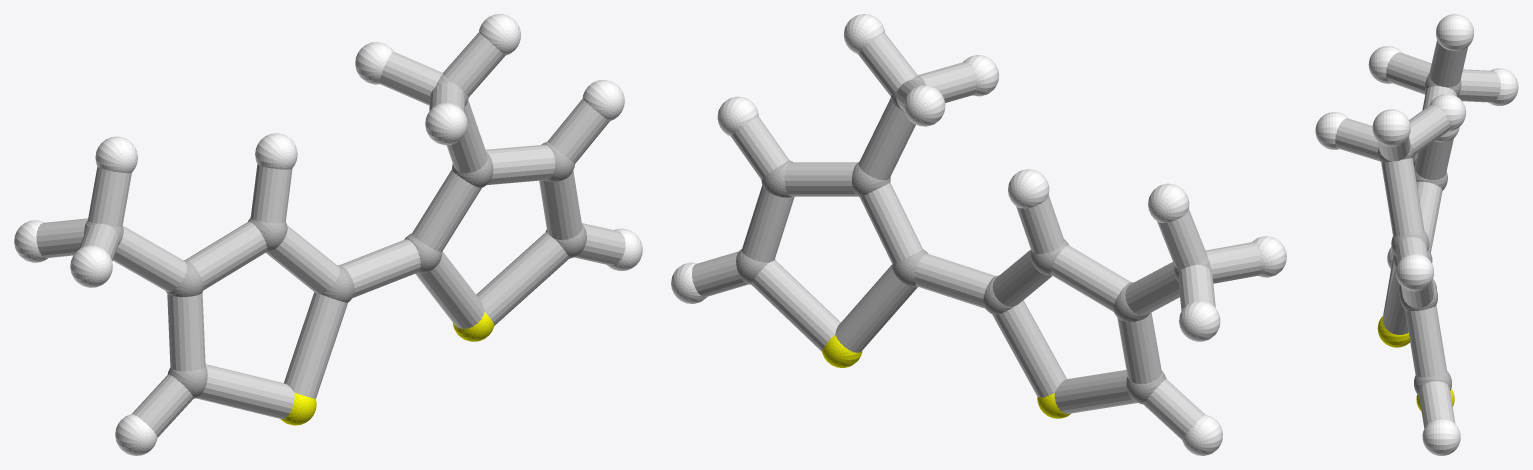
Rendered from Methylthiophene_Phi_5_Theta_200_Methylthiophene.glb.
The picture shows the model from 3 angles, left to right: view 1: azimuth 30°, elevation 25°; view 2: azimuth 150°, elevation 25°; view 3: azimuth 270°, elevation 25°; orthographic projection. The views are drawn at different scales.
Parts seen in each view (by area): view 1: grp7965, grp3621, grp1, grp7241; view 2: grp7965, grp3621, grp1, grp7241; view 3: grp7965, grp3621, grp1, grp7241.
Part boxes in pixels (x1,y1,x2,y2): grp7965: (36, 32, 625, 437); grp3621: (14, 14, 642, 455); grp1: (84, 74, 586, 398); grp7241: (280, 312, 494, 425); grp7965: (691, 33, 1261, 439); grp3621: (671, 14, 1286, 455); grp1: (736, 75, 1211, 404); grp7241: (822, 335, 1070, 418); grp7965: (1335, 40, 1500, 428); grp3621: (1315, 14, 1518, 455); grp1: (1378, 73, 1461, 395); grp7241: (1377, 315, 1454, 411).
Bounding box in the file's own units: 9.69 × 5.59 × 3.19.
